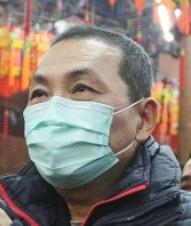OK: (26, 61, 136, 191)
